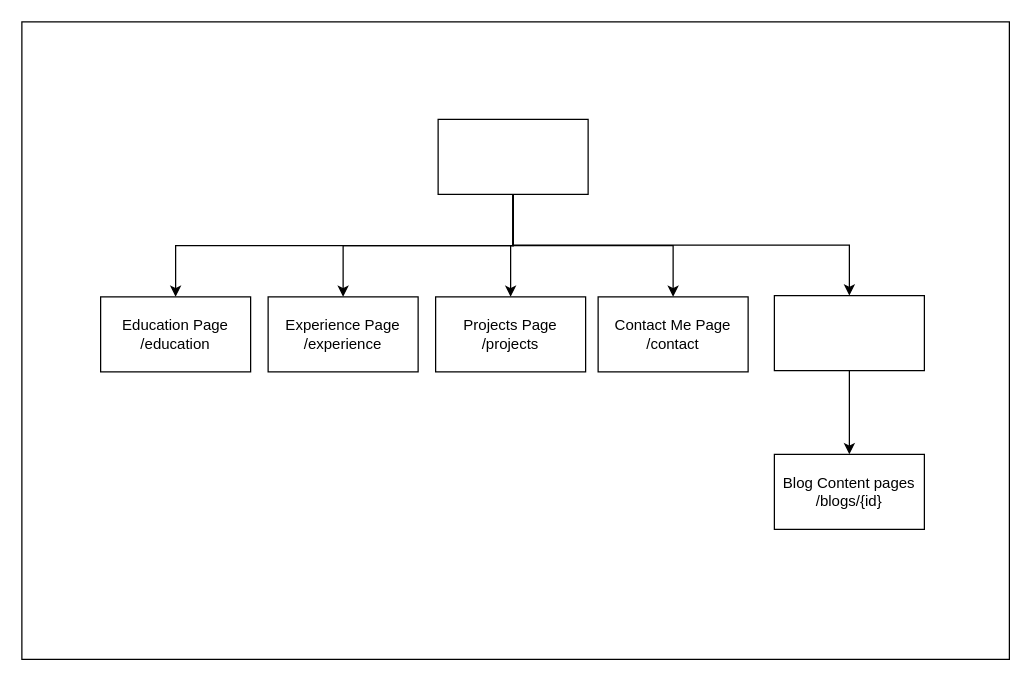
Image size: 1031x681. Some labels were removed from this diagram. Here are the shapes that lost their labels. From the top down, the centre of each, then its label:
At (x=512, y=156): "Home Page /".
At (x=848, y=332): "Blog Summary Page /blogs".
